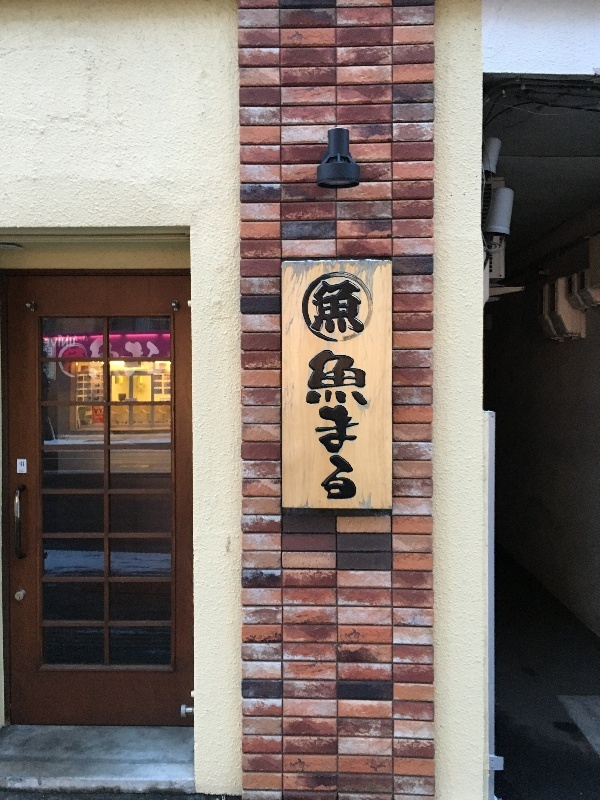text: (353, 278, 369, 501), (305, 278, 320, 501), (321, 278, 336, 501), (337, 278, 352, 501), (65, 333, 80, 380), (81, 333, 96, 380), (97, 333, 112, 380), (113, 333, 128, 380), (129, 333, 144, 380), (145, 333, 160, 380), (53, 333, 64, 380), (161, 333, 166, 380), (303, 278, 304, 501)
